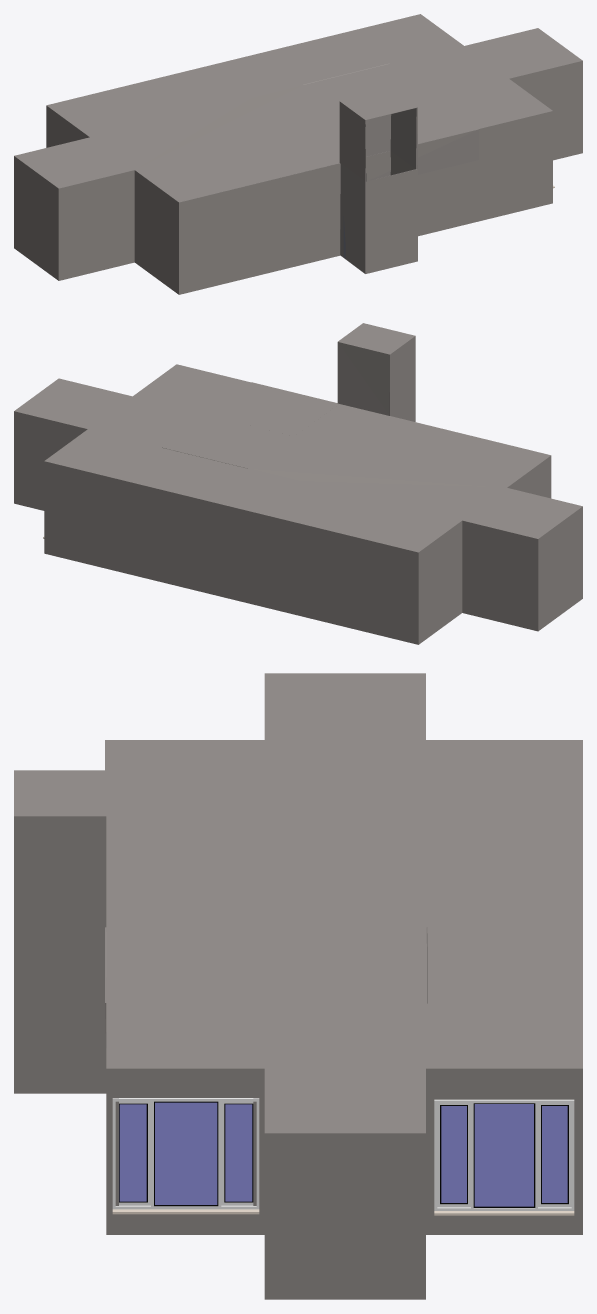
The model's file is ParumRestar-Level1.fbx.
The picture shows the model from 3 angles, top to bottom: view 1: azimuth 30°, elevation 25°; view 2: azimuth 150°, elevation 25°; view 3: azimuth 270°, elevation 25°; orthographic projection. The views are drawn at different scales.
Visible parts, largest first — view 1: Level1.001, Level1.techo.001; view 2: Level1.001, Level1.techo.001; view 3: Level1.techo.001, Level1.001, Window.009, Window.007.
Boxes of the visible parts, x1,y1,x2,y2 form: Level1.001: (14,61,582,294); Level1.techo.001: (14,14,582,201); Level1.001: (14,336,582,644); Level1.techo.001: (14,323,582,552); Level1.techo.001: (14,673,582,1133); Level1.001: (14,740,582,1299); Window.009: (112,1098,259,1214); Window.007: (434,1099,574,1215).
Bounding box in the file's own units: 2855 × 803 × 1492.
68 materials, 48 textured.
